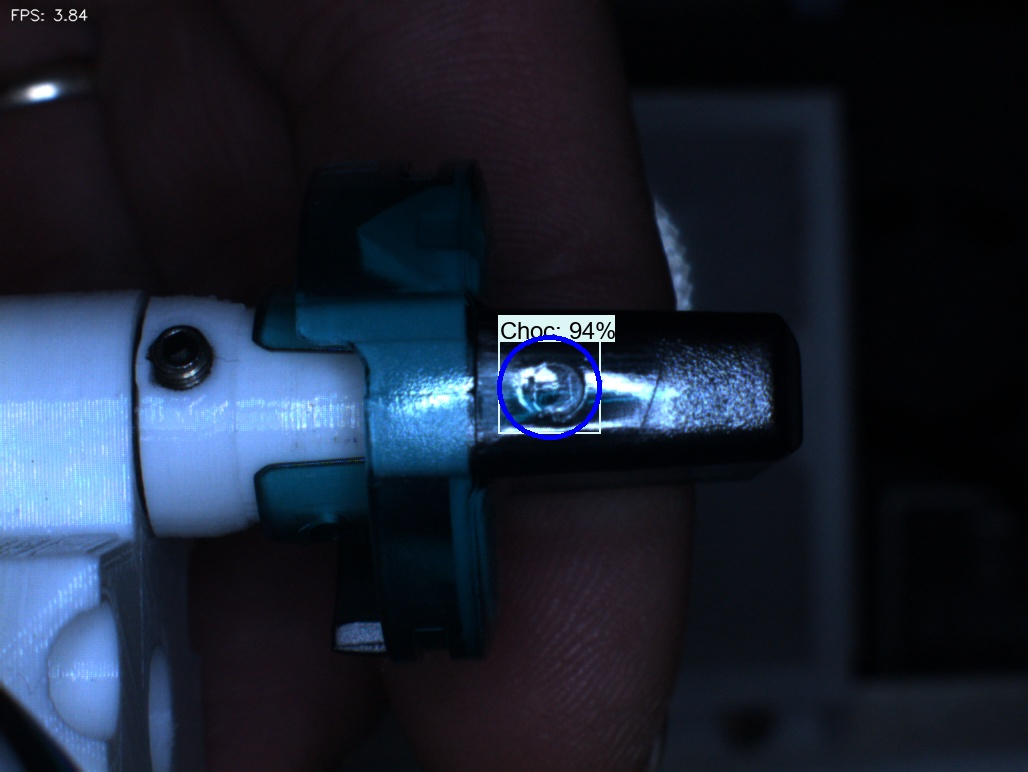DentOk: (337, 199, 401, 297)
